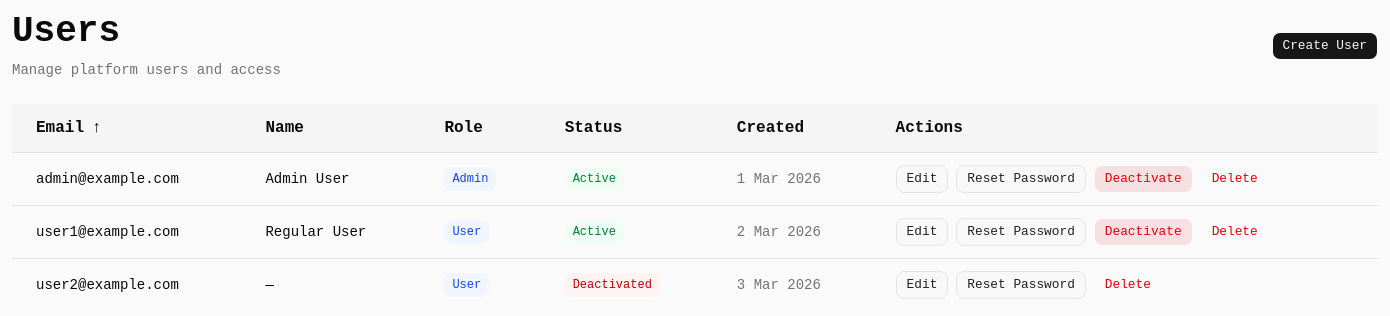
Test case: SettingsUsers › sorting › toggles sort order when clicking same header twice
This screenshot has width=1390, height=316.
Expected: the text "admin@example.com" is shown, x1=12 y1=152 x2=242 y2=206
// First click: toggle to desc (↓)
What coordinates should you click on to do the following:
click the button "Email ↑"
I would click on:
 (69, 128)
Its box is x1=36 y1=116 x2=102 y2=140.
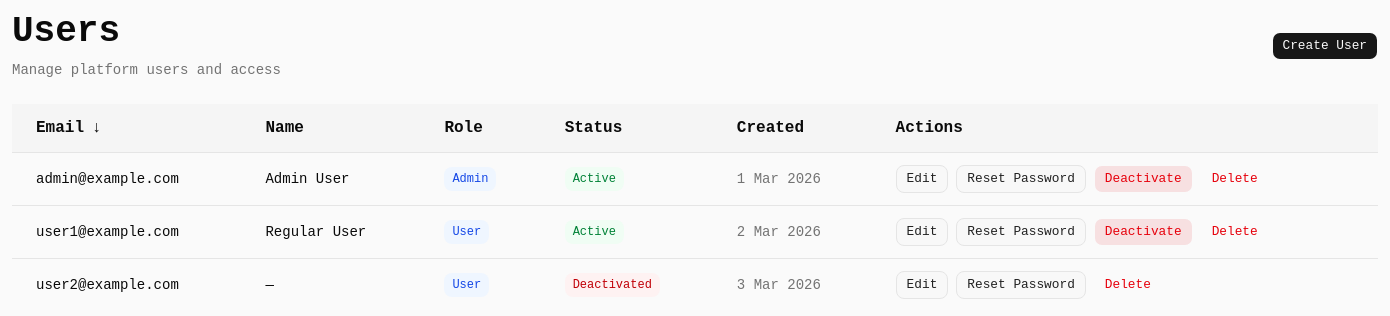
Now the button "Email ↓" is shown
// Second click: toggle back to asc (↑)
What coordinates should you click on to do the following:
click the button "Email ↓"
I would click on:
 (69, 128)
Its box is x1=36 y1=116 x2=102 y2=140.
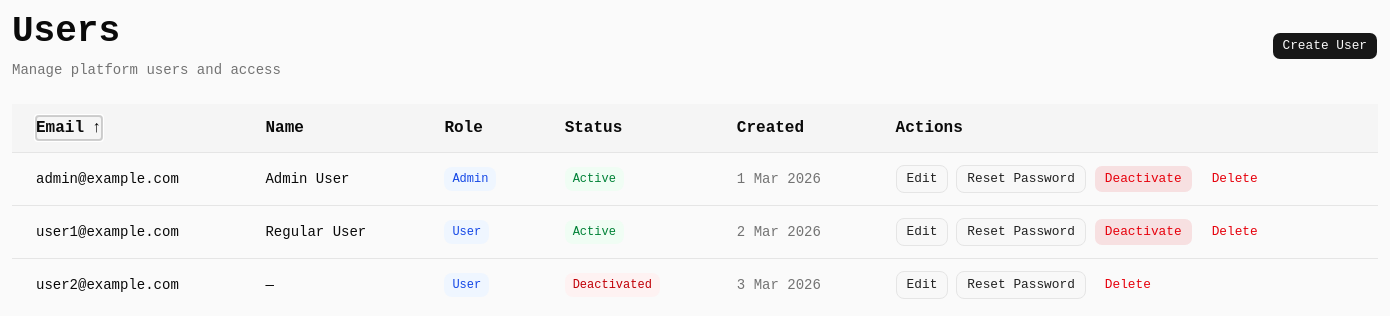
Now the button "Email ↑" is shown, box x1=36 y1=116 x2=102 y2=140
